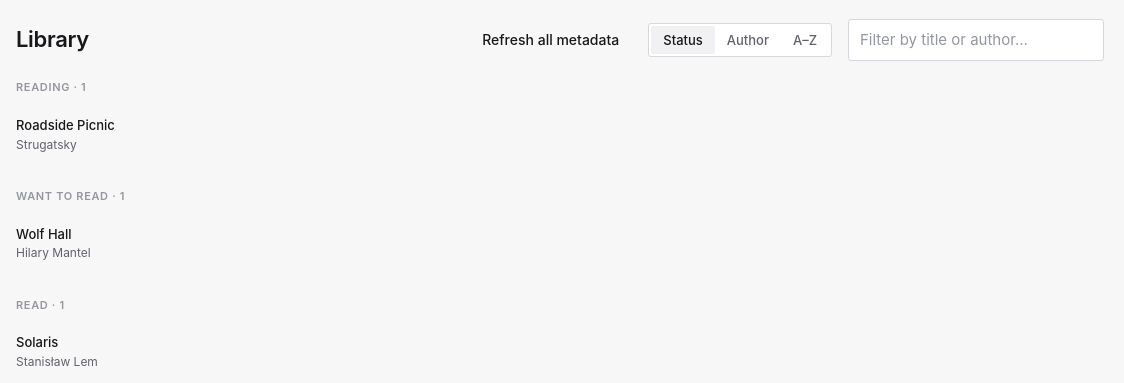
Test: filtering inside a grouping › narrows the shelves rather than the covers
This screenshot has width=1124, height=383.
In the field named "Filter library": x=976, y=40 [848, 19, 1104, 61], type "wolf"
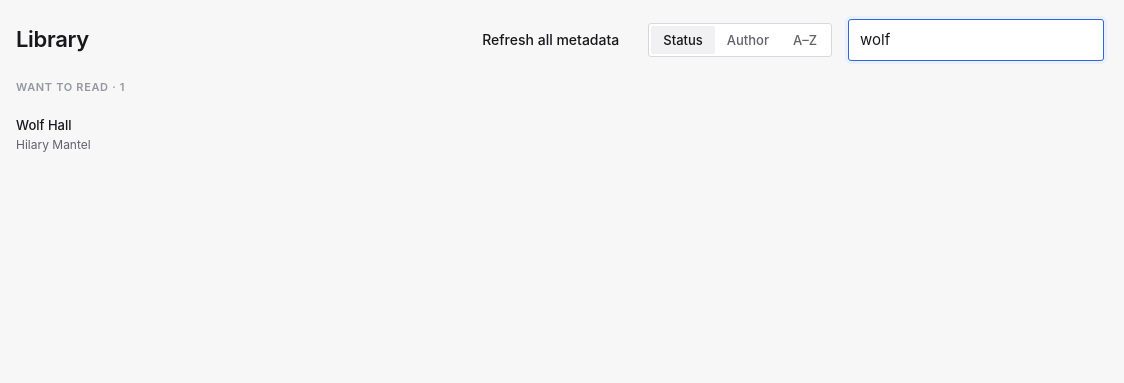
Check: the button "Solaris" is gone
